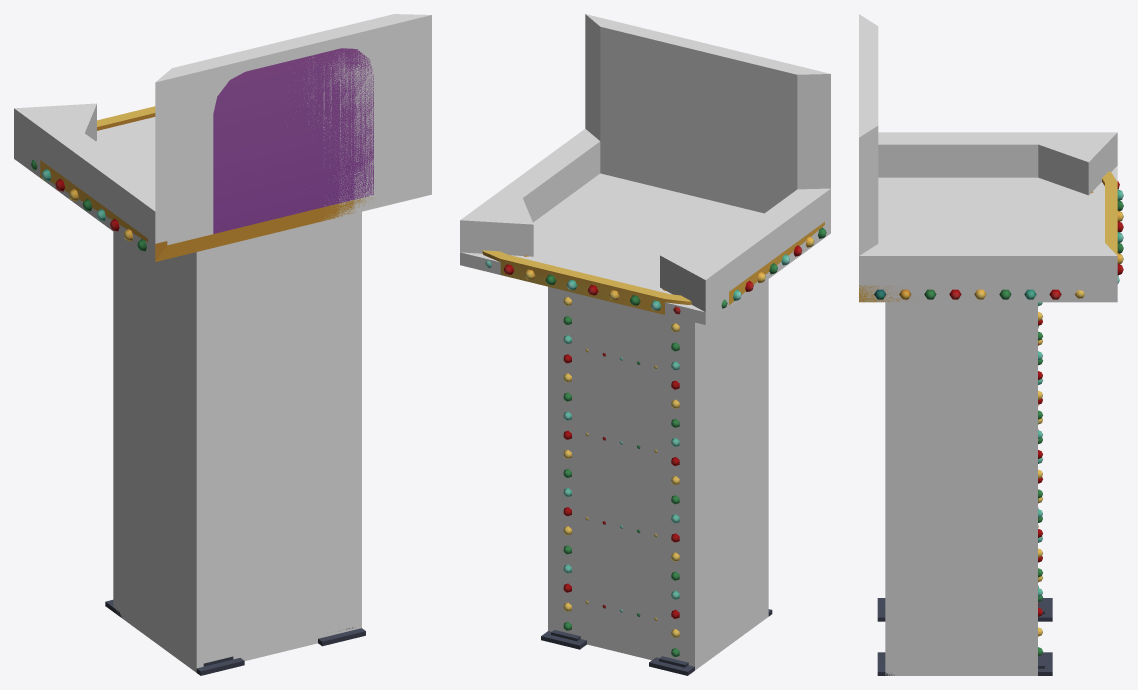
Rendered from squidgame_props_tower1.fbx.
The picture shows the model from 3 angles, left to right: view 1: azimuth 30°, elevation 25°; view 2: azimuth 150°, elevation 25°; view 3: azimuth 270°, elevation 25°; orthographic projection. The views are drawn at different scales.
Parts seen in each view (by area): view 1: squidgame_props_tower1_col, squidgame_props_tower1, squidgame_props_tower1_light; view 2: squidgame_props_tower1_col, squidgame_props_tower1, squidgame_props_tower1_light; view 3: squidgame_props_tower1_col, squidgame_props_tower1_light, squidgame_props_tower1.
Part boxes in pixels (box(x1,y1,x2,y2)): squidgame_props_tower1_col: box(14, 14, 431, 672); squidgame_props_tower1: box(40, 48, 373, 675); squidgame_props_tower1_light: box(31, 160, 146, 251); squidgame_props_tower1_col: box(460, 14, 830, 670); squidgame_props_tower1: box(482, 222, 824, 675); squidgame_props_tower1_light: box(485, 227, 826, 656); squidgame_props_tower1_col: box(859, 14, 1117, 675); squidgame_props_tower1_light: box(874, 181, 1123, 656); squidgame_props_tower1: box(859, 171, 1117, 675).
Bounding box in the file's own units: 5.79 × 11.79 × 5.03.
